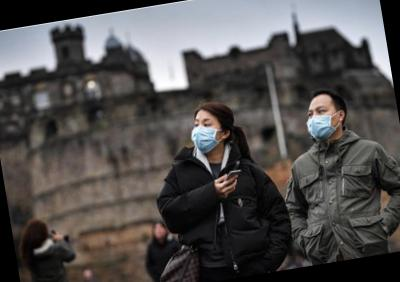with_mask: (303, 101, 341, 144), (187, 114, 224, 155)
without_mask: (151, 220, 168, 240)
